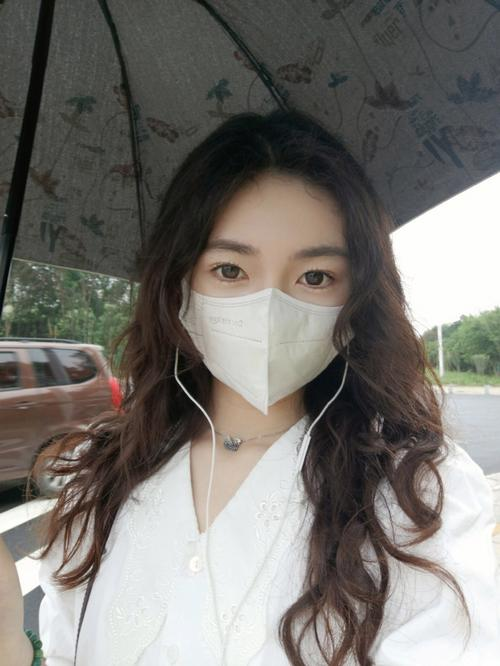mask: (187, 163, 360, 408)
